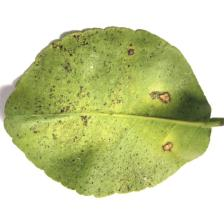canker: (17, 38, 129, 186)
